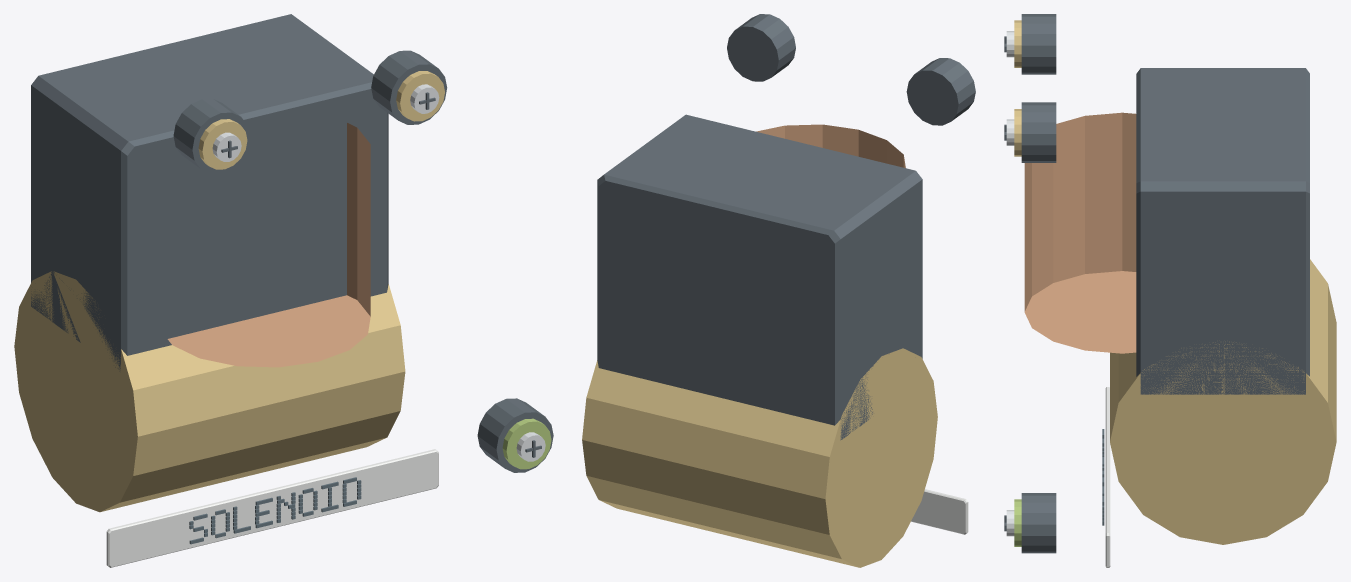
Rendered from solenoidValve.glb.
The picture shows the model from 3 angles, left to right: view 1: azimuth 30°, elevation 25°; view 2: azimuth 150°, elevation 25°; view 3: azimuth 270°, elevation 25°; orthographic projection. The views are drawn at different scales.
Parts seen in each view (by area): view 1: solenoidValve-preview; view 2: solenoidValve-preview; view 3: solenoidValve-preview.
Part boxes in pixels (left/top/right/bottom): solenoidValve-preview: left=14, top=14, right=553, bottom=567; solenoidValve-preview: left=582, top=14, right=975, bottom=567; solenoidValve-preview: left=1004, top=14, right=1336, bottom=567.
Size of the model in its own units: 2.19 by 2.48 by 1.72.
